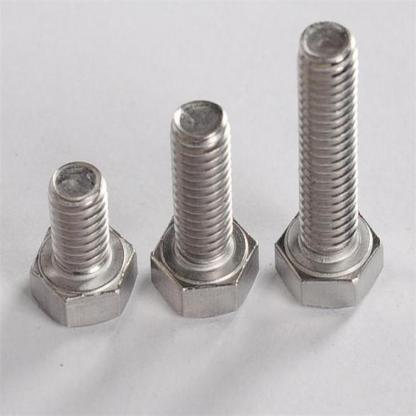FOD: (272, 15, 386, 312), (147, 98, 263, 325), (26, 158, 139, 330)
